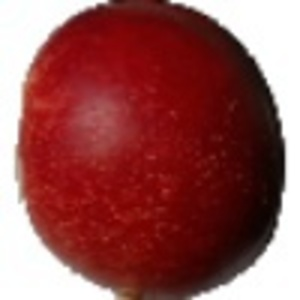nectarina: (1, 1, 286, 300)
